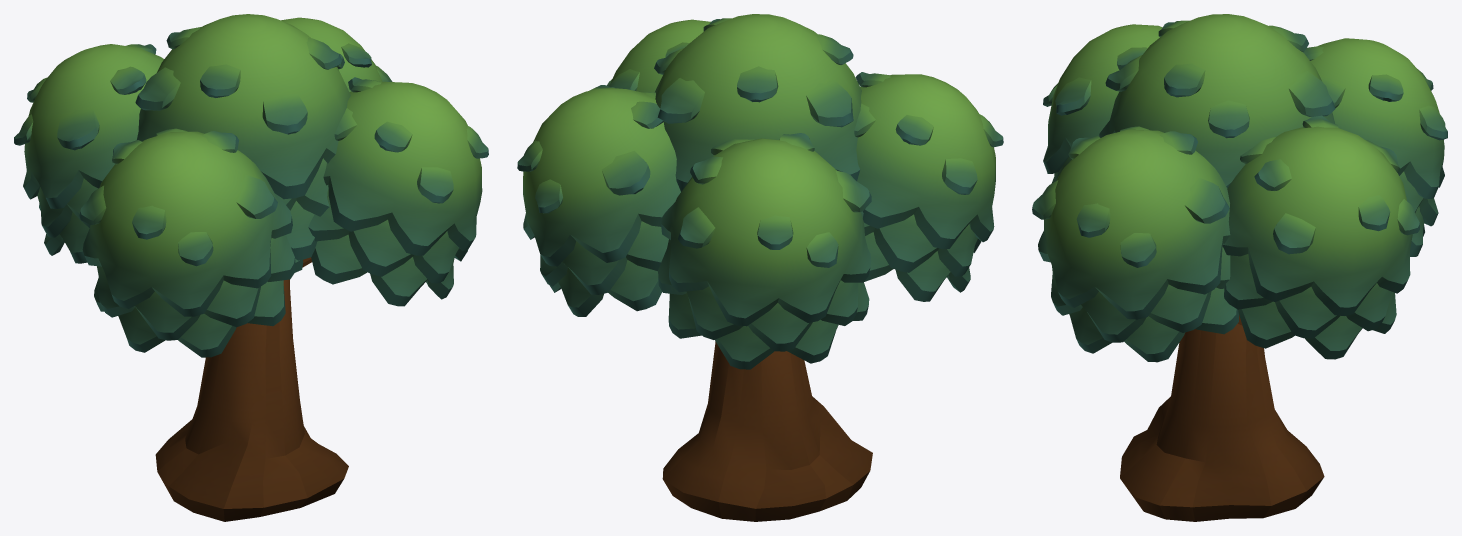
Rendered from Tree-5-1.fbx.
3 views of the same model, side by side, from view 1: azimuth 30°, elevation 25°; view 2: azimuth 150°, elevation 25°; view 3: azimuth 270°, elevation 25° (orthographic). The views are drawn at different scales.
Visible parts, largest first — view 1: Tree-5-1; view 2: Tree-5-1; view 3: Tree-5-1.
Boxes of the visible parts, x1,y1,x2,y2 form: Tree-5-1: (14,14,488,521); Tree-5-1: (517,14,1003,521); Tree-5-1: (1032,14,1447,521).
Bounding box in the file's own units: 1385 × 1583 × 1286.
